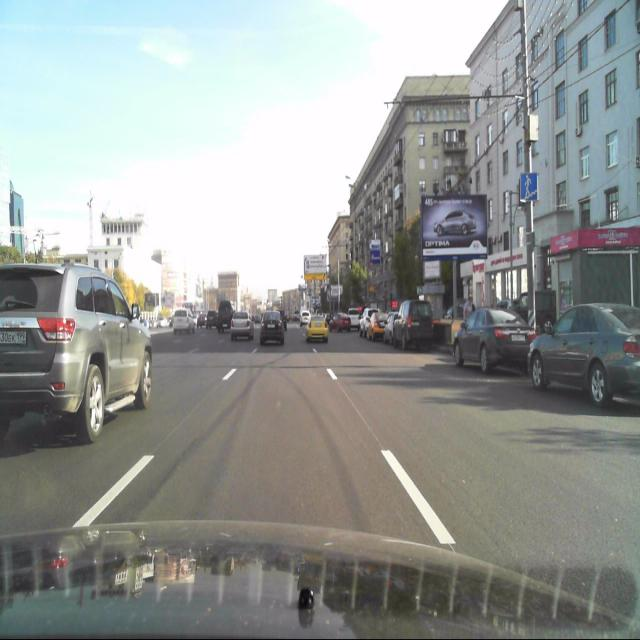road sign: (520, 172, 538, 201)
